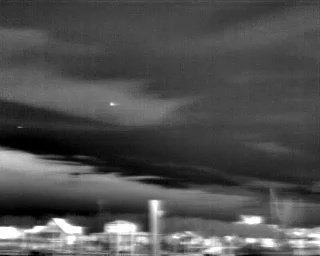BIRD: (108, 99, 120, 110)
